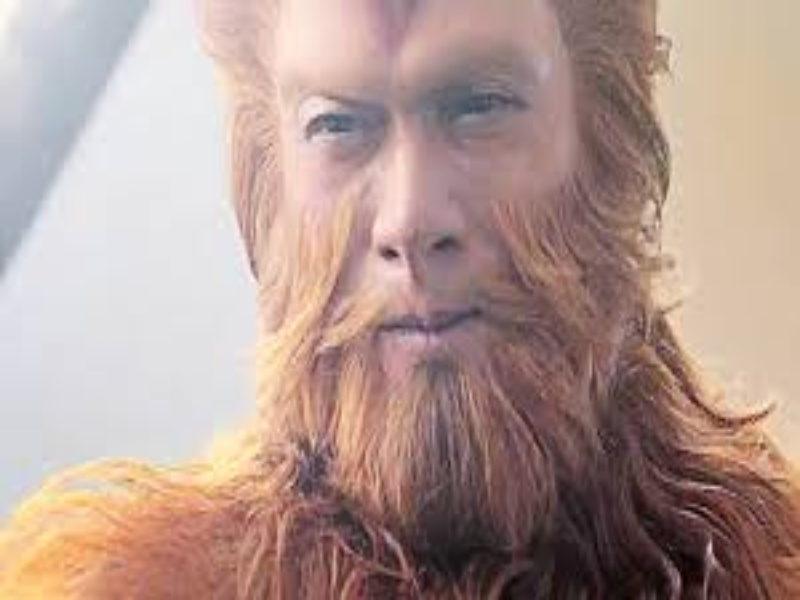monkey: (193, 46, 632, 525)
